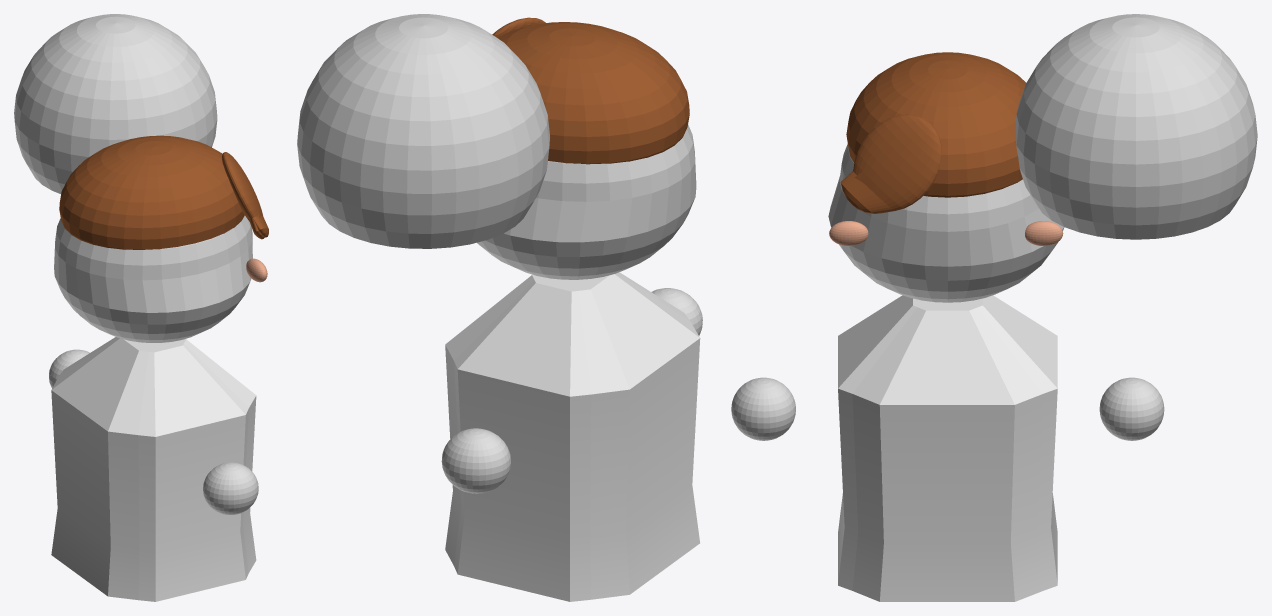
The model's file is Peter.fbx.
3 renders of one model, left to right at view 1: azimuth 30°, elevation 25°; view 2: azimuth 150°, elevation 25°; view 3: azimuth 270°, elevation 25°, orthographic. The views are drawn at different scales.
Parts seen in each view (by area): view 1: Cube, Sphere.008, Sphere, Sphere.017, Sphere.001, Sphere.018, Sphere.004; view 2: Cube, Sphere.008, Sphere, Sphere.017, Sphere.001; view 3: Cube, Sphere.008, Sphere, Sphere.017, Sphere.018, Sphere.001, Sphere.004.
Boxes of the visible parts, box(x1,y1,x2,y2) form: Cube: box(51, 337, 256, 601); Sphere.008: box(14, 14, 217, 193); Sphere: box(54, 215, 252, 342); Sphere.017: box(59, 135, 244, 249); Sphere.001: box(49, 349, 258, 514); Sphere.018: box(222, 152, 268, 239); Sphere.004: box(246, 258, 267, 282); Cube: box(445, 272, 700, 601); Sphere.008: box(297, 14, 549, 248); Sphere: box(477, 124, 696, 279); Sphere.017: box(498, 22, 689, 164); Sphere.001: box(441, 288, 702, 493); Cube: box(838, 295, 1057, 601); Sphere.008: box(1015, 14, 1257, 239); Sphere: box(828, 144, 1064, 302); Sphere.017: box(846, 52, 1025, 197); Sphere.018: box(840, 114, 941, 213); Sphere.001: box(731, 377, 1164, 440); Sphere.004: box(829, 221, 1063, 245).
Size of the model in its own units: 246 by 505 by 432.
